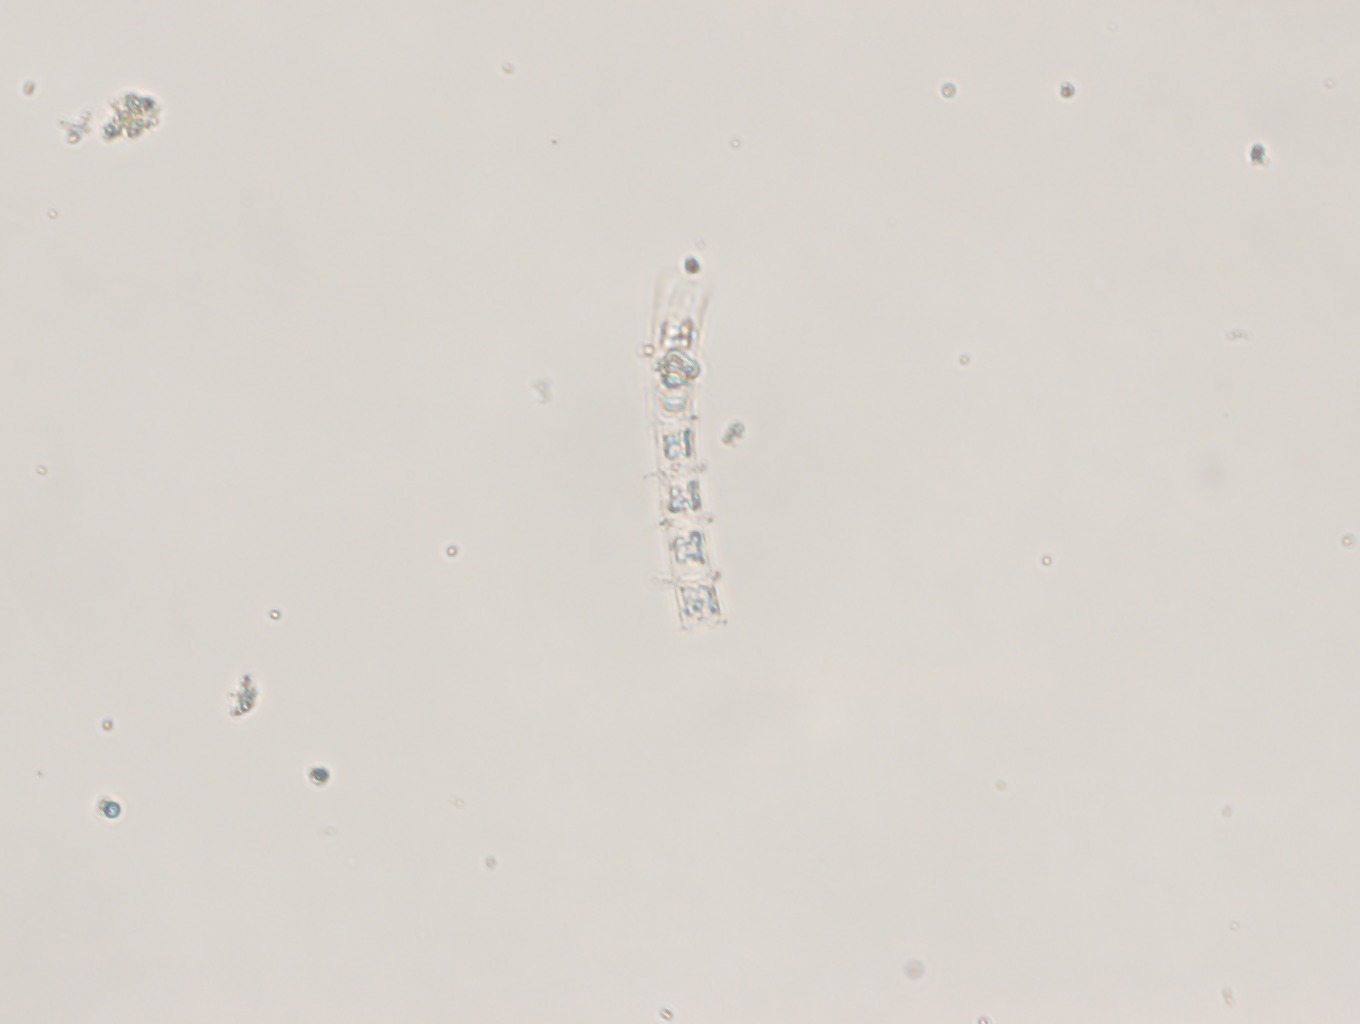chaetoceros: (601, 264, 774, 657)
